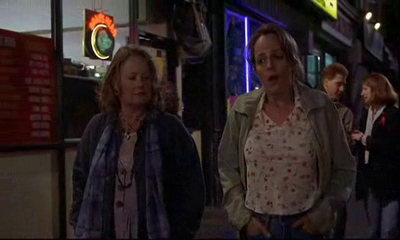face: (350, 73, 400, 238), (256, 43, 289, 95), (123, 66, 152, 102), (333, 78, 345, 100), (360, 83, 371, 104)
ms: (1, 1, 399, 240)
person: (217, 23, 357, 238), (68, 45, 205, 238), (321, 63, 357, 161)
